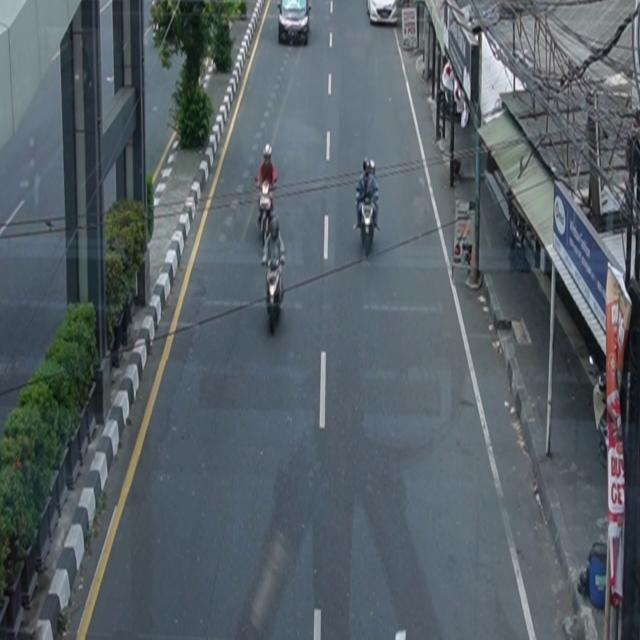car: (277, 1, 313, 46), (367, 1, 398, 26)
